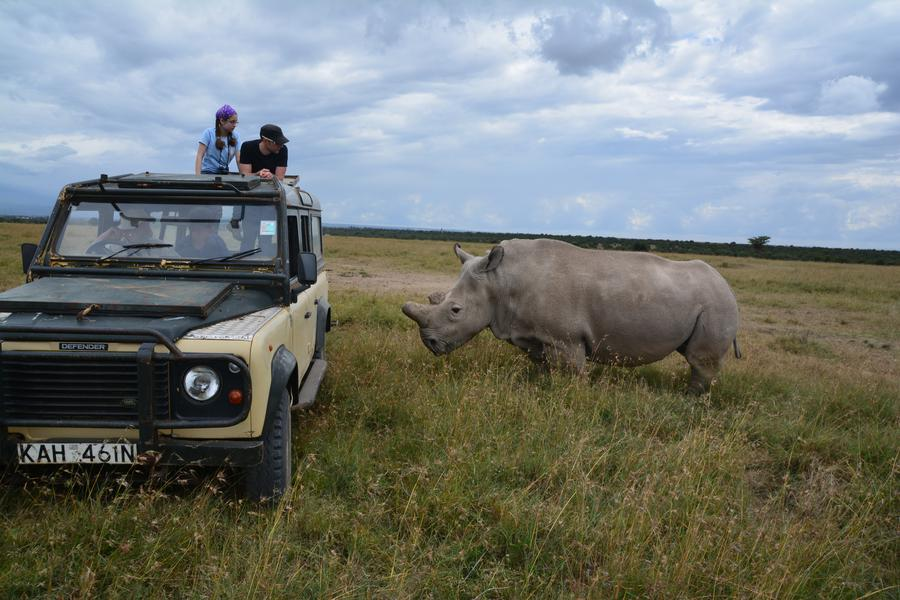rhino: (418, 225, 730, 367)
